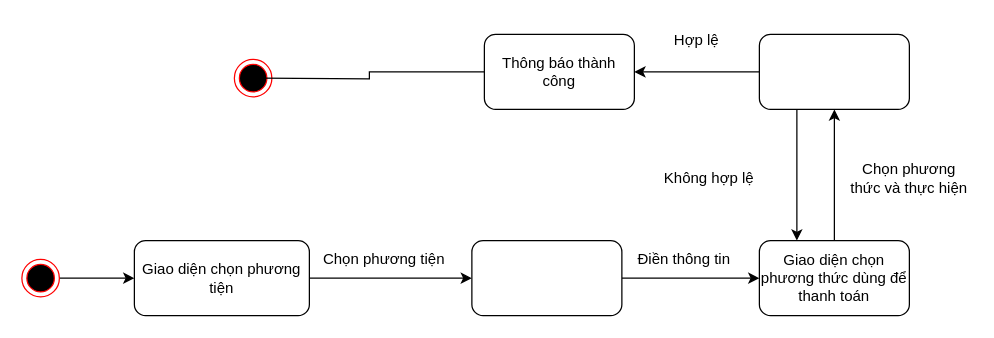
Some shapes in this 994 by 338 pixel diagram are drawn without their labels. Here are the shapes that lost their labels. From the top down, the centre of each, then its label:
point (833, 71): Chờ
point (546, 277): Giao diện điền thông tiên cho vé mau
